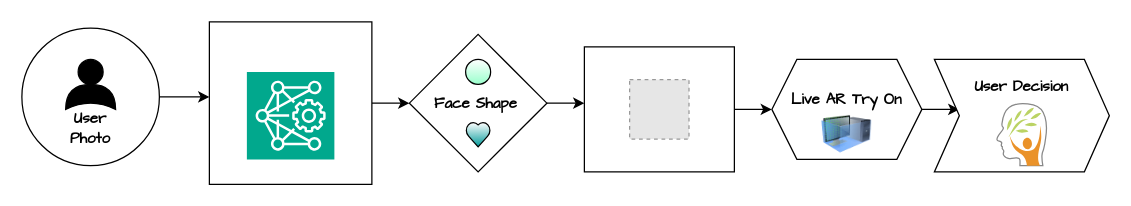
Image size: 1131x206. Some labels were removed from this diagram. Grey dashed boxes stand in for pictures. Each missing label, with the box of its shape:
DL Model CNN Classifier: (208, 21, 372, 184)
Recommend Glass Shape: (583, 46, 734, 172)
